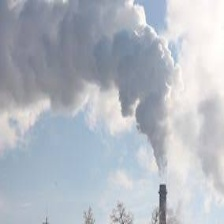smoke: (2, 2, 184, 169)
